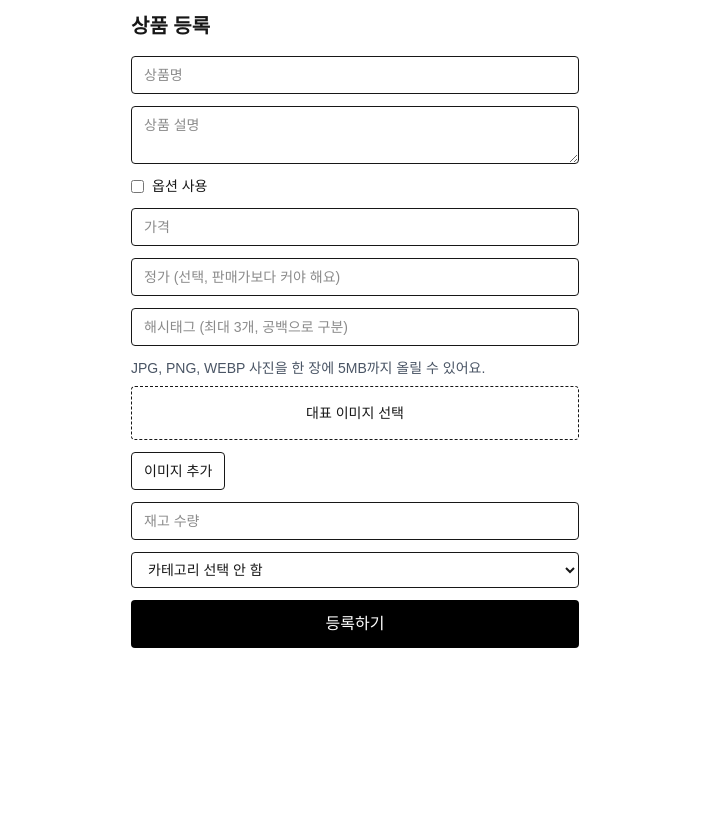
AdminProductForm 옵션 › 성공: 행을 추가하고 삭제하며, 행이 하나뿐이면 삭제 버튼이 없다
Click the checkbox labelled "옵션 사용" at {"x": 138, "y": 186}, box [131, 180, 144, 192]
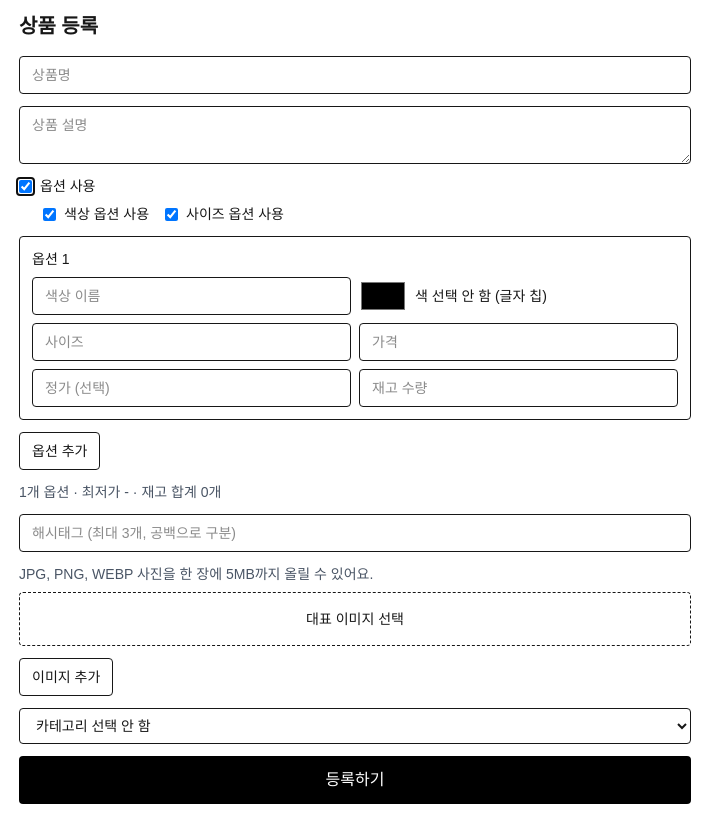
Check: the button "옵션 1 삭제" is not shown
Click the button "옵션 추가" at {"x": 60, "y": 451}, box [19, 432, 100, 470]
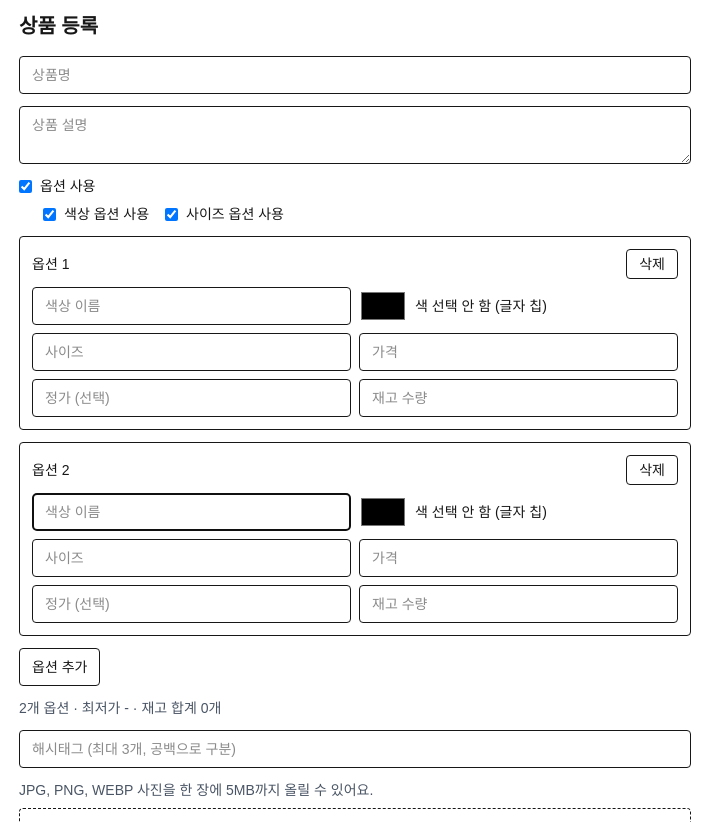
Type "블랙" into the field named "옵션 2 색상 이름" at {"x": 192, "y": 512}, box [32, 493, 351, 531]
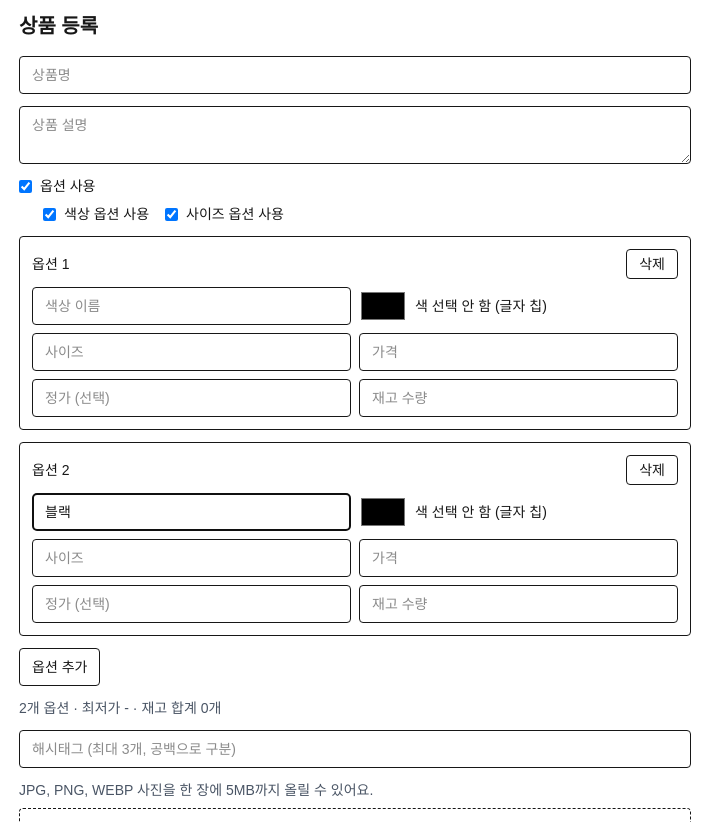
Click the button with aria-label "옵션 1 삭제" at {"x": 652, "y": 264}, box [626, 249, 678, 279]
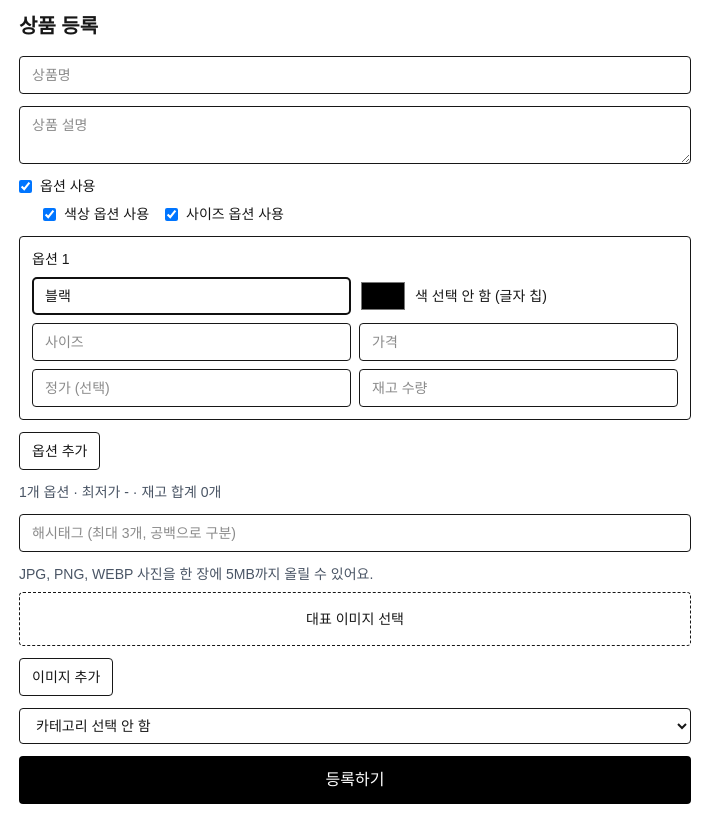
Check: the field labelled "옵션 2 색상 이름" is not shown
Check: the button "삭제" is gone
